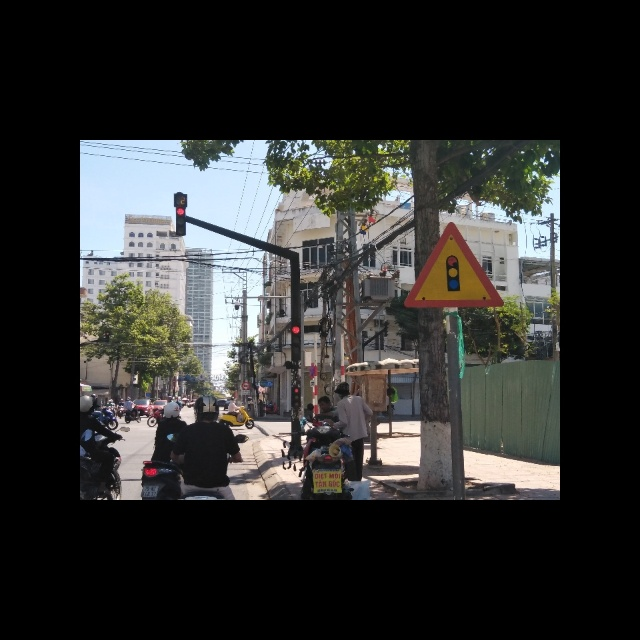Giao nhau có tín hiệu đèn: (402, 221, 506, 309)
Đèn đỏ: (292, 325, 301, 334)
